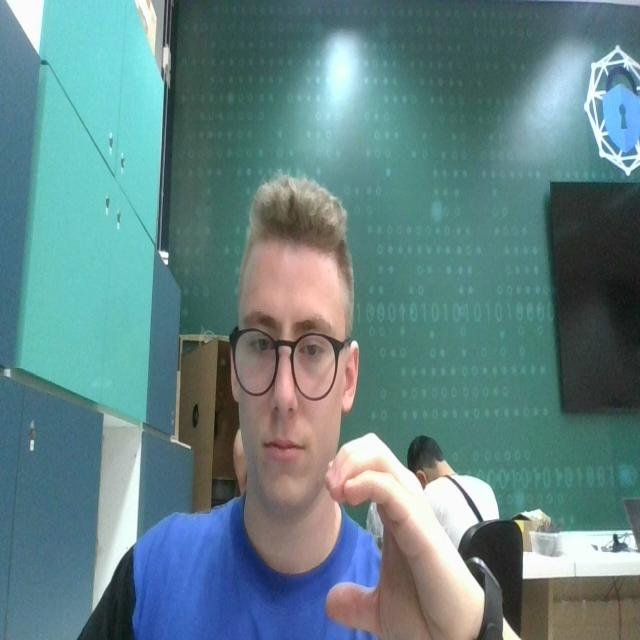C: (323, 423, 462, 640)
